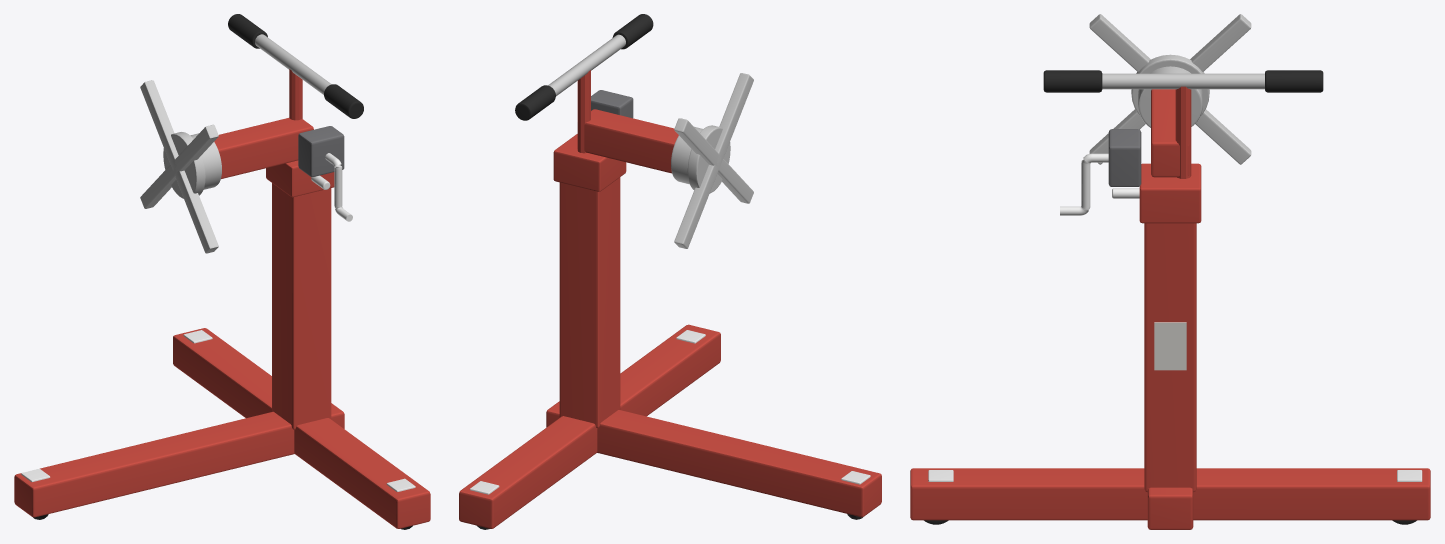
The model's file is engine_stand.glb.
3 views of the same model, side by side, from view 1: azimuth 30°, elevation 25°; view 2: azimuth 150°, elevation 25°; view 3: azimuth 270°, elevation 25° (orthographic). The views are drawn at different scales.
Visible parts, largest first — view 1: SM_engine_stand; view 2: SM_engine_stand; view 3: SM_engine_stand.
Boxes of the visible parts, <box> form: SM_engine_stand: <box>14,14,430,529</box>; SM_engine_stand: <box>459,14,881,529</box>; SM_engine_stand: <box>910,14,1430,529</box>.
Bounding box in the file's own units: 0.64 × 0.767 × 0.8.
